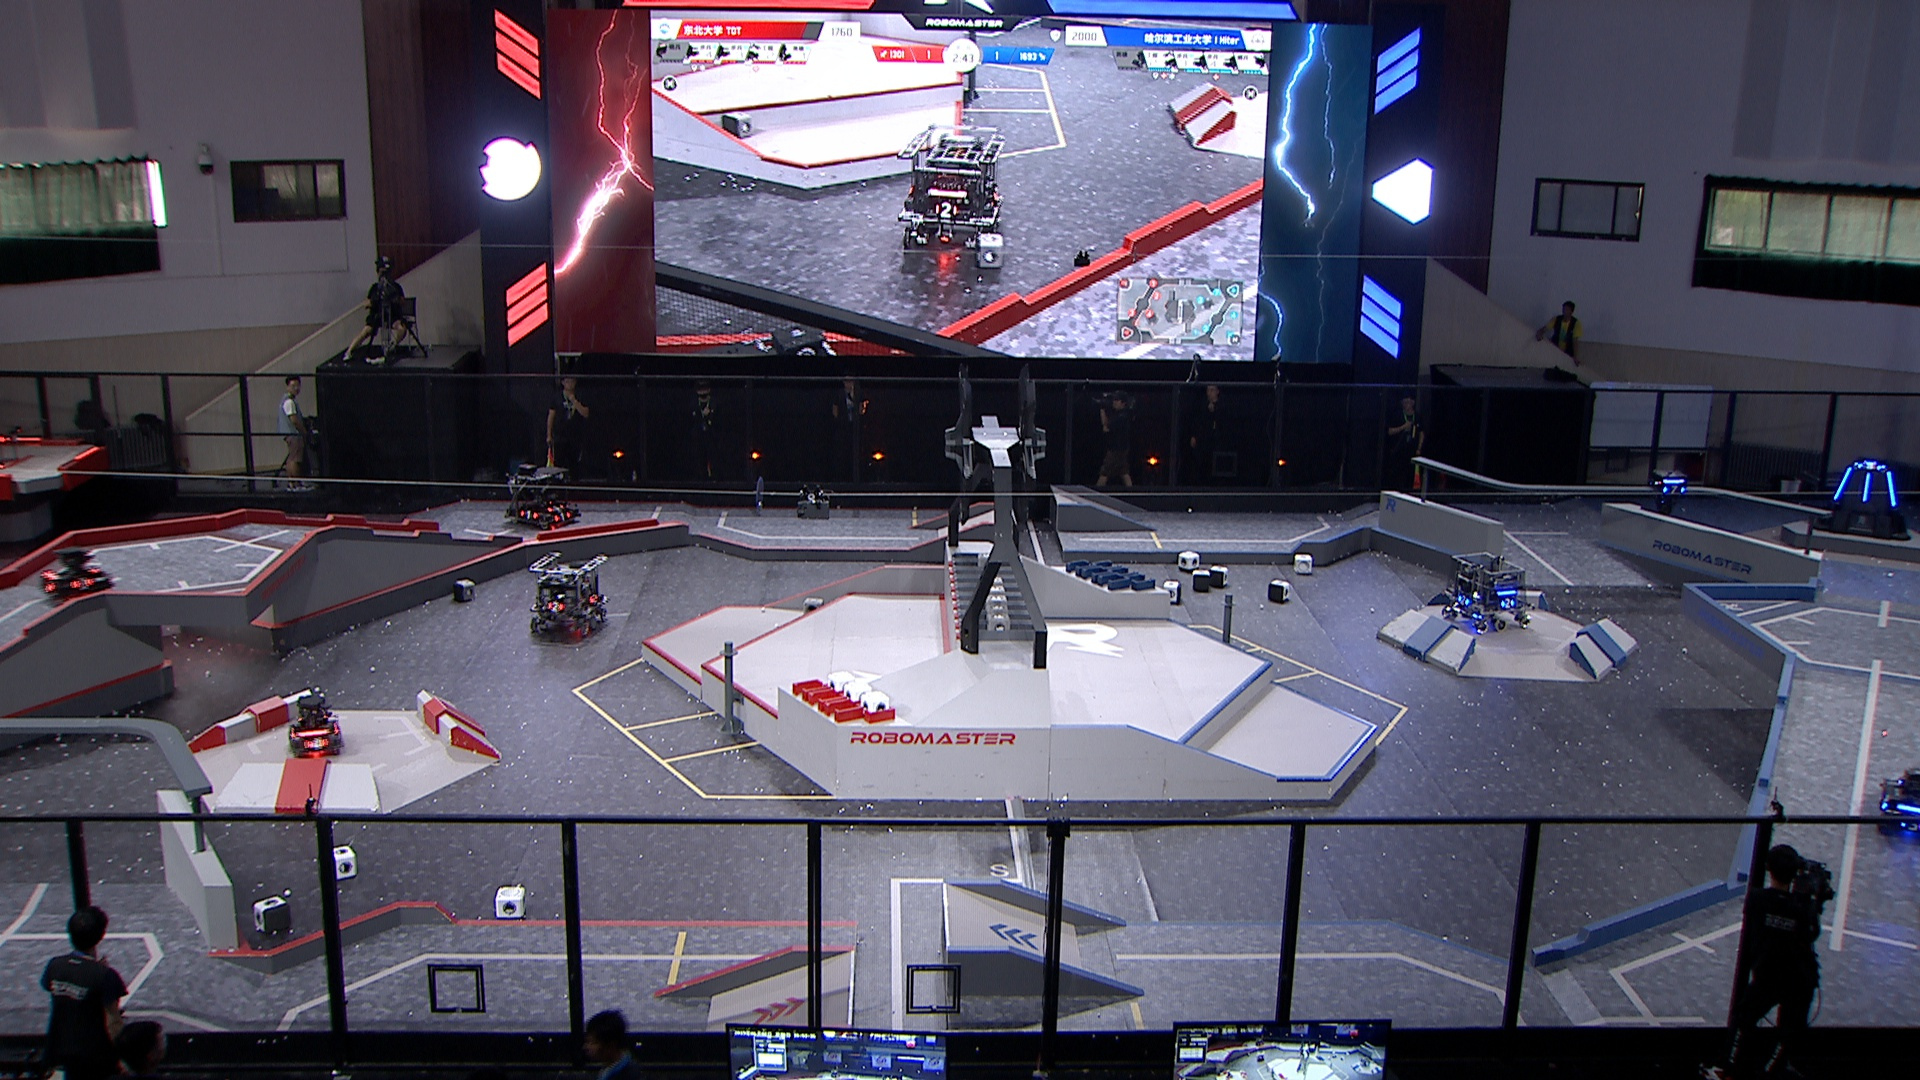armor: (1828, 465, 1855, 502), (1883, 467, 1898, 510), (67, 572, 98, 591), (1859, 471, 1874, 504), (1875, 789, 1894, 811), (305, 735, 328, 752), (1660, 484, 1688, 498), (1855, 460, 1887, 472), (550, 508, 574, 524), (1902, 815, 1920, 833), (514, 508, 541, 520), (585, 589, 603, 607), (1457, 591, 1474, 608), (40, 576, 55, 595), (545, 600, 564, 615), (545, 501, 564, 512), (1501, 597, 1515, 611)
base: (1808, 455, 1915, 545)
car: (1443, 547, 1539, 637), (522, 549, 615, 640), (500, 462, 585, 527), (32, 547, 120, 608), (1869, 760, 1920, 843), (282, 688, 343, 757)
ignore: (891, 121, 1015, 249)
watcher: (1642, 465, 1691, 514)
